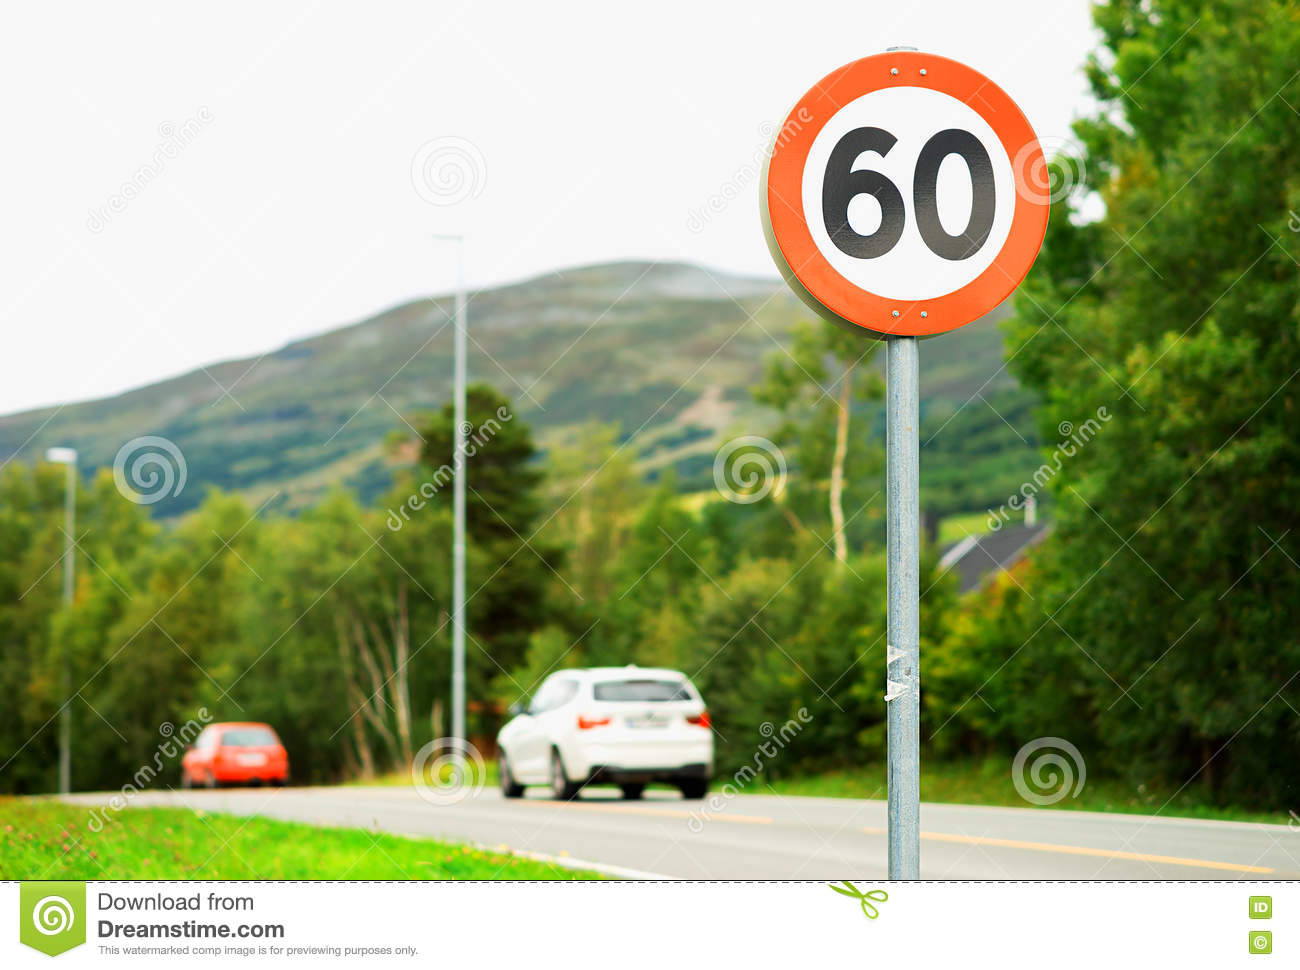Speed_limit_60km: (764, 48, 1051, 333)
car: (489, 663, 728, 816), (174, 718, 299, 798)
